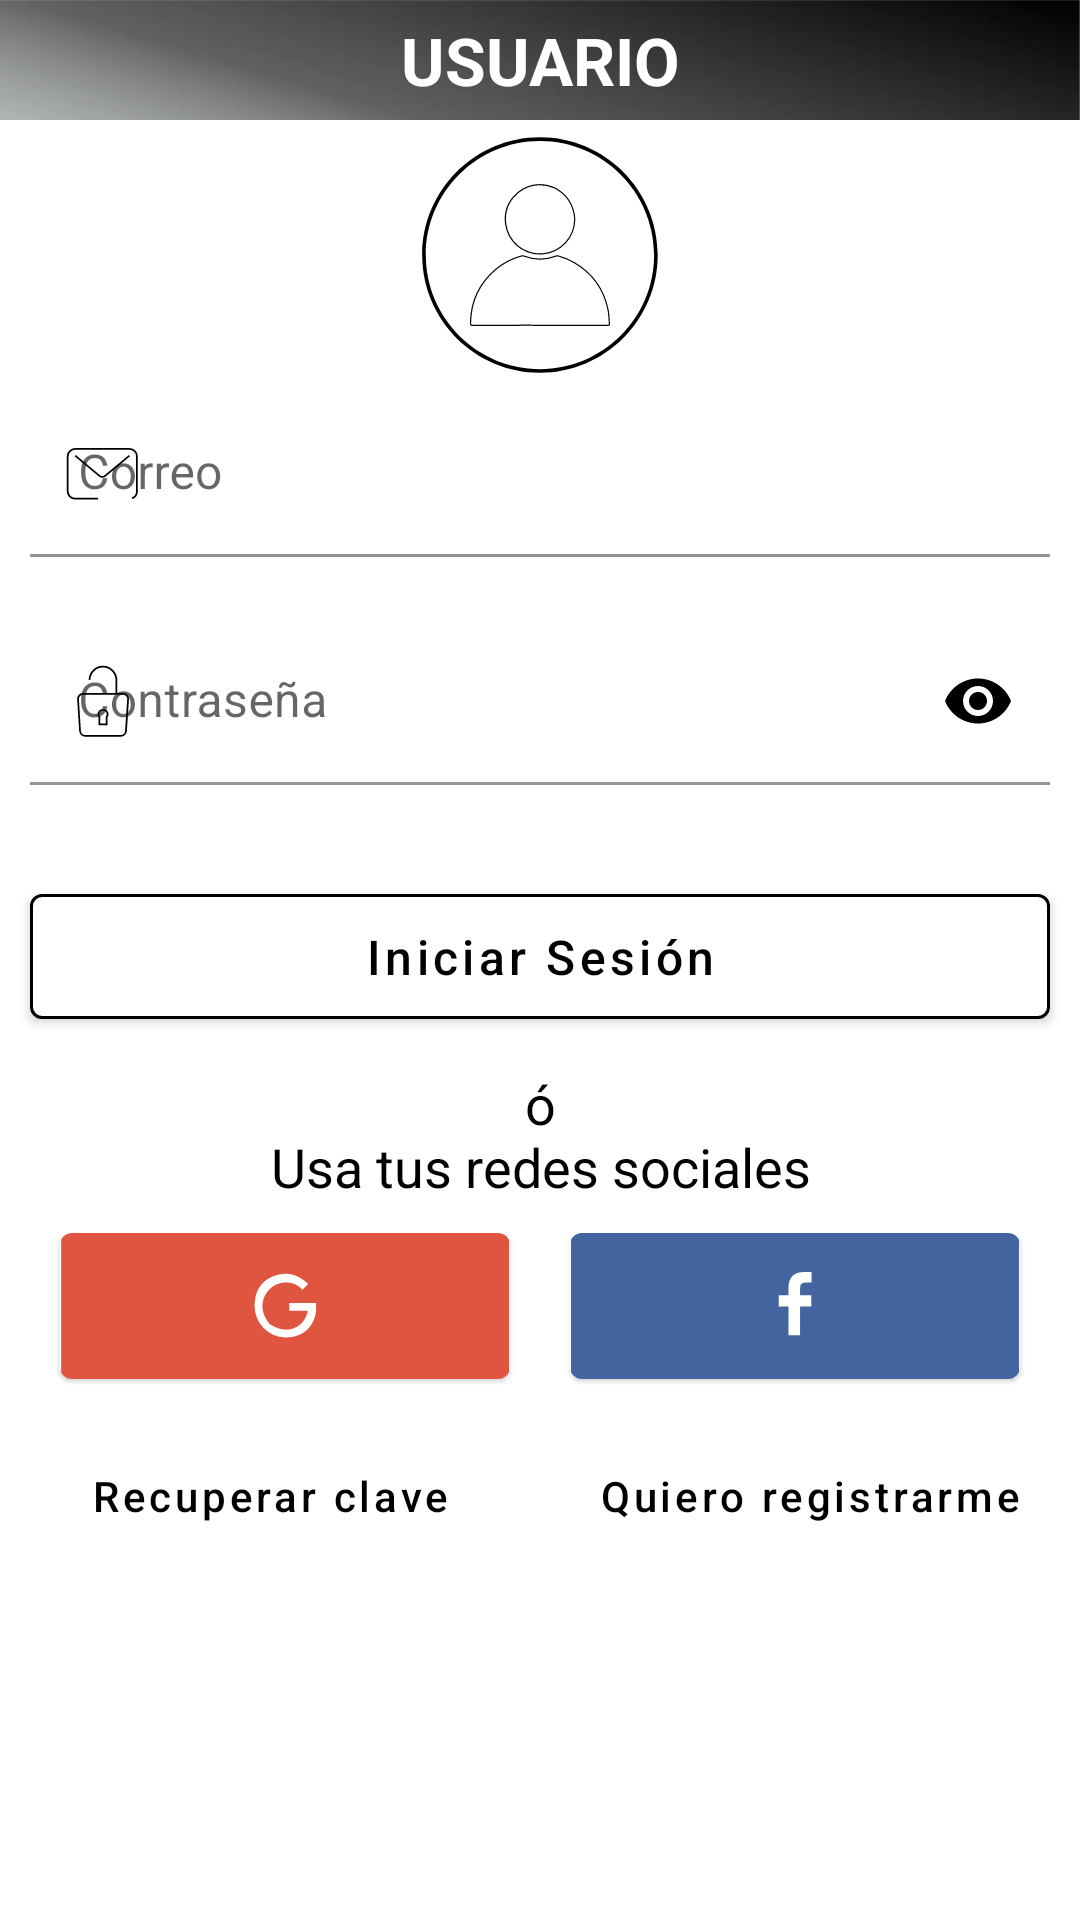

Icons on this 1080×1920 Android screen, each with its box as bbox=[x1, y1, x2, y2]:
acount: bbox=[422, 137, 658, 373]
